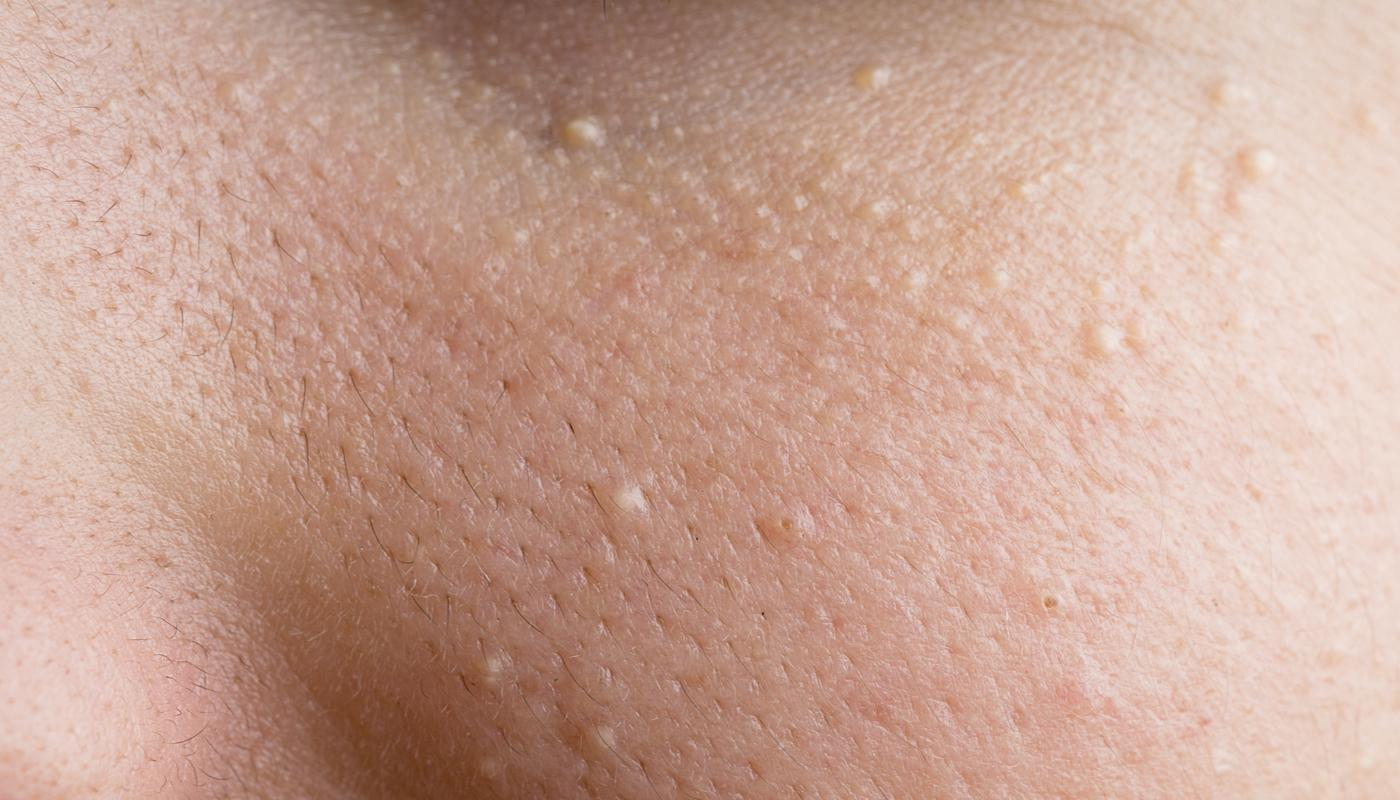blackhead: (1010, 566, 1099, 648), (762, 493, 850, 571)
flat_wart: (1039, 293, 1209, 423), (1181, 111, 1309, 248), (816, 45, 924, 105)
milium: (586, 468, 709, 561), (522, 100, 618, 198), (467, 626, 529, 731), (567, 713, 637, 771), (505, 631, 516, 644)
